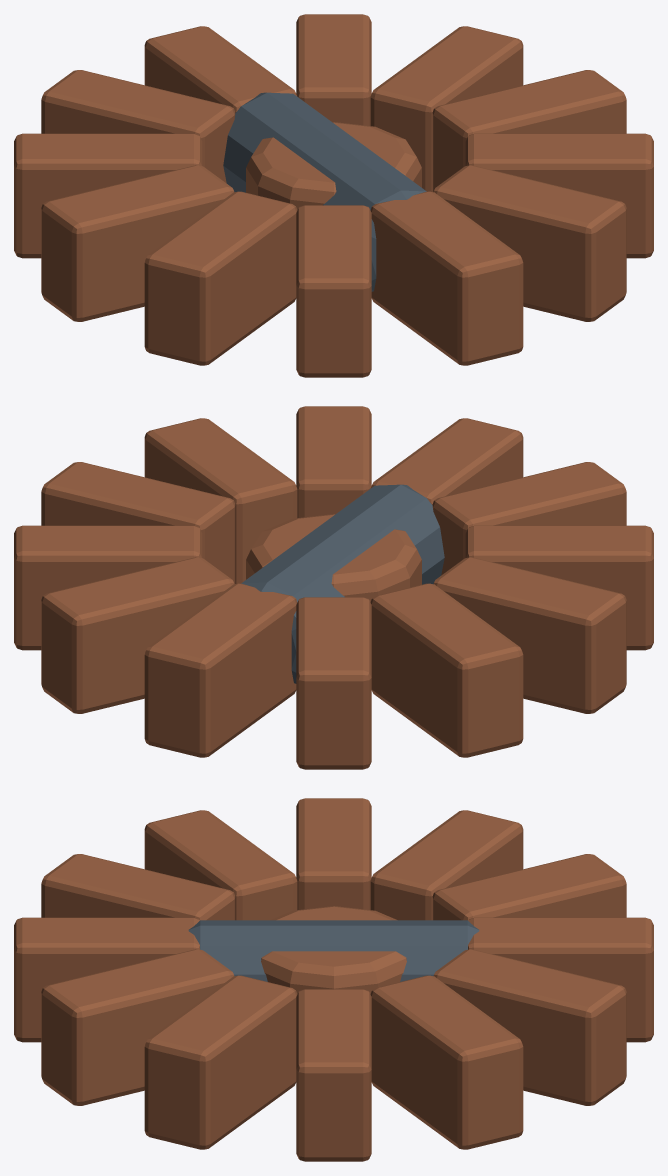
File: Foundry-Gear.glb
The picture shows the model from 3 angles, top to bottom: view 1: azimuth 30°, elevation 25°; view 2: azimuth 150°, elevation 25°; view 3: azimuth 270°, elevation 25°; orthographic projection.
Parts seen in each view (by area): view 1: Drive_Gear_Tooth_7.001, Drive_Gear_Tooth_9.001, Drive_Gear_Tooth_6.001, Drive_Gear_Tooth_10.001, Drive_Gear_Tooth_8.001, Drive_Gear_Tooth_5.001, Drive_Gear_Tooth_11.001, Gear_Axle.001, Drive_Gear_Tooth_0.001, Drive_Gear_Tooth_1.001, Drive_Gear_Tooth_4.001, Drive_Gear_Tooth_2.001 (+2 smaller); view 2: Drive_Gear_Tooth_5.001, Drive_Gear_Tooth_3.001, Drive_Gear_Tooth_2.001, Drive_Gear_Tooth_6.001, Drive_Gear_Tooth_4.001, Drive_Gear_Tooth_1.001, Drive_Gear_Tooth_7.001, Gear_Axle.001, Drive_Gear_Tooth_0.001, Drive_Gear_Tooth_11.001, Drive_Gear_Tooth_8.001, Drive_Gear_Tooth_10.001 (+2 smaller); view 3: Drive_Gear_Tooth_1.001, Drive_Gear_Tooth_11.001, Drive_Gear_Tooth_2.001, Drive_Gear_Tooth_10.001, Drive_Gear_Tooth_0.001, Drive_Gear_Tooth_3.001, Drive_Gear_Tooth_9.001, Gear_Axle.001, Drive_Gear_Tooth_5.001, Drive_Gear_Tooth_7.001, Drive_Gear_Tooth_4.001, Drive_Gear_Tooth_8.001 (+2 smaller).
Part boxes in pixels (x1,y1,x2,y2): Drive_Gear_Tooth_7.001: (144, 191, 297, 365); Drive_Gear_Tooth_9.001: (370, 191, 523, 365); Drive_Gear_Tooth_6.001: (41, 165, 234, 321); Drive_Gear_Tooth_10.001: (433, 165, 626, 321); Drive_Gear_Tooth_8.001: (296, 205, 371, 377); Drive_Gear_Tooth_5.001: (14, 133, 202, 258); Drive_Gear_Tooth_11.001: (465, 133, 653, 258); Gear_Axle.001: (223, 92, 426, 291); Drive_Gear_Tooth_0.001: (432, 70, 626, 192); Drive_Gear_Tooth_1.001: (370, 26, 523, 191); Drive_Gear_Tooth_4.001: (41, 70, 235, 183); Drive_Gear_Tooth_2.001: (296, 14, 371, 125); Drive_Gear_Tooth_5.001: (370, 583, 523, 757); Drive_Gear_Tooth_3.001: (144, 583, 297, 757); Drive_Gear_Tooth_2.001: (41, 557, 234, 713); Drive_Gear_Tooth_6.001: (433, 557, 626, 713); Drive_Gear_Tooth_4.001: (296, 597, 371, 769); Drive_Gear_Tooth_1.001: (14, 525, 202, 650); Drive_Gear_Tooth_7.001: (465, 525, 653, 650); Gear_Axle.001: (241, 484, 444, 683); Drive_Gear_Tooth_0.001: (41, 462, 235, 584); Drive_Gear_Tooth_11.001: (144, 418, 297, 583); Drive_Gear_Tooth_8.001: (432, 462, 626, 575); Drive_Gear_Tooth_10.001: (296, 406, 371, 517); Drive_Gear_Tooth_1.001: (370, 975, 523, 1149); Drive_Gear_Tooth_11.001: (144, 975, 297, 1149); Drive_Gear_Tooth_2.001: (433, 949, 626, 1105); Drive_Gear_Tooth_10.001: (41, 949, 234, 1105); Drive_Gear_Tooth_0.001: (296, 989, 371, 1161); Drive_Gear_Tooth_3.001: (468, 917, 653, 1042); Drive_Gear_Tooth_9.001: (14, 917, 199, 1042); Gear_Axle.001: (188, 920, 479, 981); Drive_Gear_Tooth_5.001: (370, 810, 523, 920); Drive_Gear_Tooth_7.001: (144, 810, 297, 920); Drive_Gear_Tooth_4.001: (432, 854, 626, 920); Drive_Gear_Tooth_8.001: (41, 854, 235, 920).
Size of the model in its own units: 2.35 by 0.44 by 2.35.
